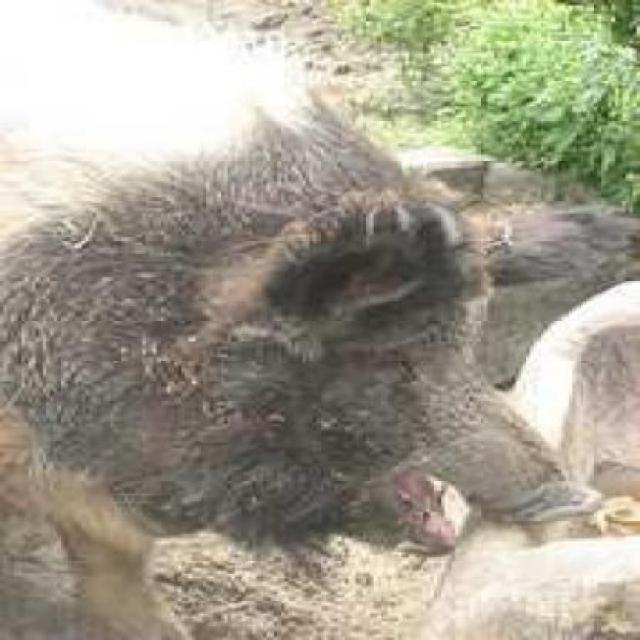pig: (0, 0, 583, 585)
